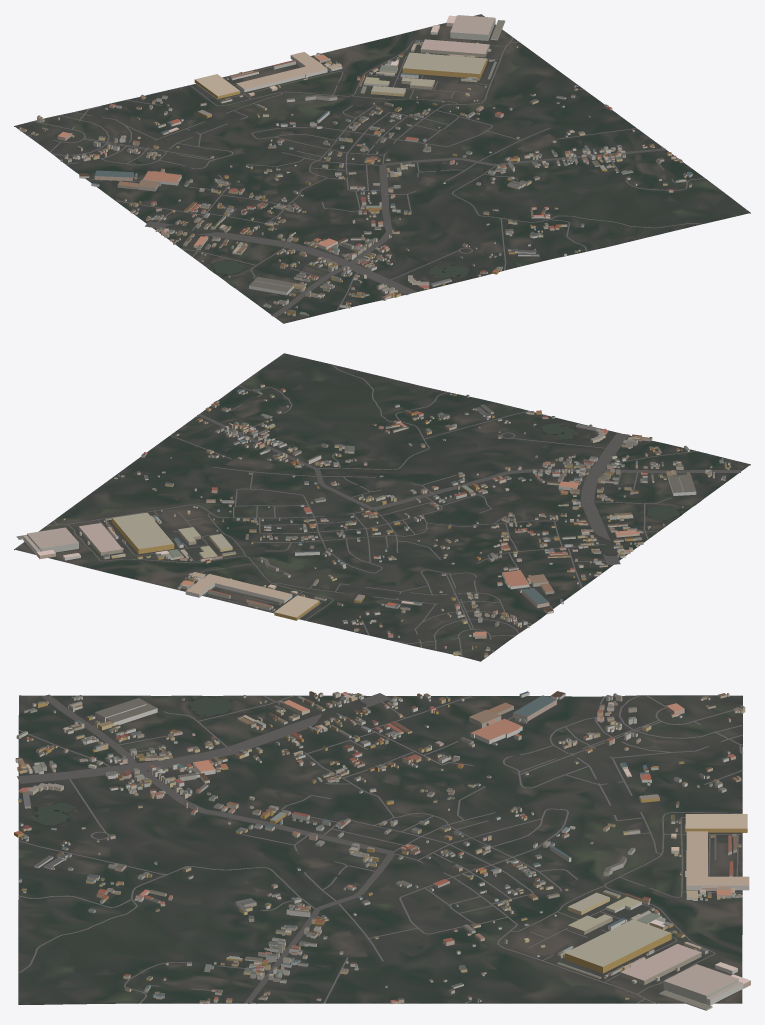
3 renders of one model, top to bottom at view 1: azimuth 30°, elevation 25°; view 2: azimuth 150°, elevation 25°; view 3: azimuth 270°, elevation 25°, orthographic. The views are drawn at different scales.
Parts seen in each view (by area): view 1: ground, buildings, roads, water; view 2: ground, buildings, roads, water; view 3: ground, buildings, roads, water.
Part boxes in pixels (x1,y1,x2,y2): ground: (14,14,750,323); buildings: (19,15,692,316); roads: (26,37,705,317); water: (209,260,469,287); ground: (14,353,750,661); buildings: (16,384,730,657); roads: (46,364,741,656); water: (541,423,700,519); ground: (18,695,742,1004); buildings: (14,691,750,1010); roads: (17,693,742,1003); water: (33,696,234,825).
Size of the model in its own units: 1446 by 24.79 by 1427.
